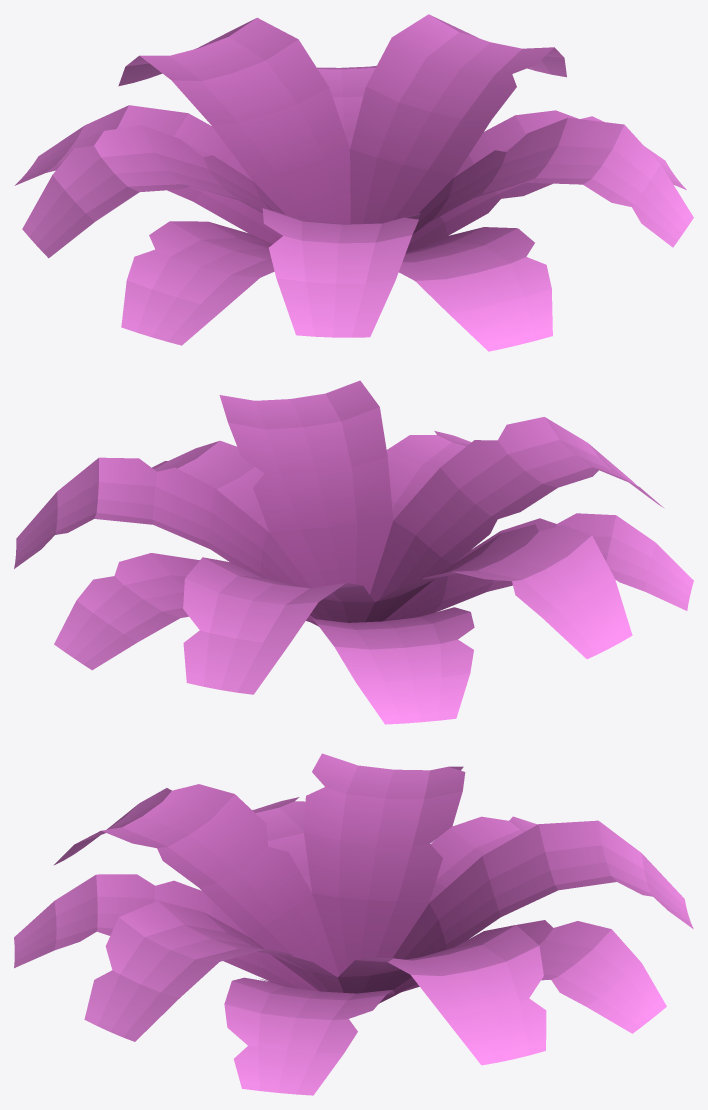
The model's file is SpringDoubleBush.fbx.
3 renders of one model, top to bottom at view 1: azimuth 30°, elevation 25°; view 2: azimuth 150°, elevation 25°; view 3: azimuth 270°, elevation 25°, orthographic. The views are drawn at different scales.
Visible parts, largest first — view 1: SpringDoubleBush; view 2: SpringDoubleBush; view 3: SpringDoubleBush.
Boxes of the visible parts, bbox=[...] form: SpringDoubleBush: bbox=[14, 14, 693, 351]; SpringDoubleBush: bbox=[14, 380, 693, 724]; SpringDoubleBush: bbox=[14, 753, 693, 1095].
Bounding box in the file's own units: 348 × 88.23 × 353.
